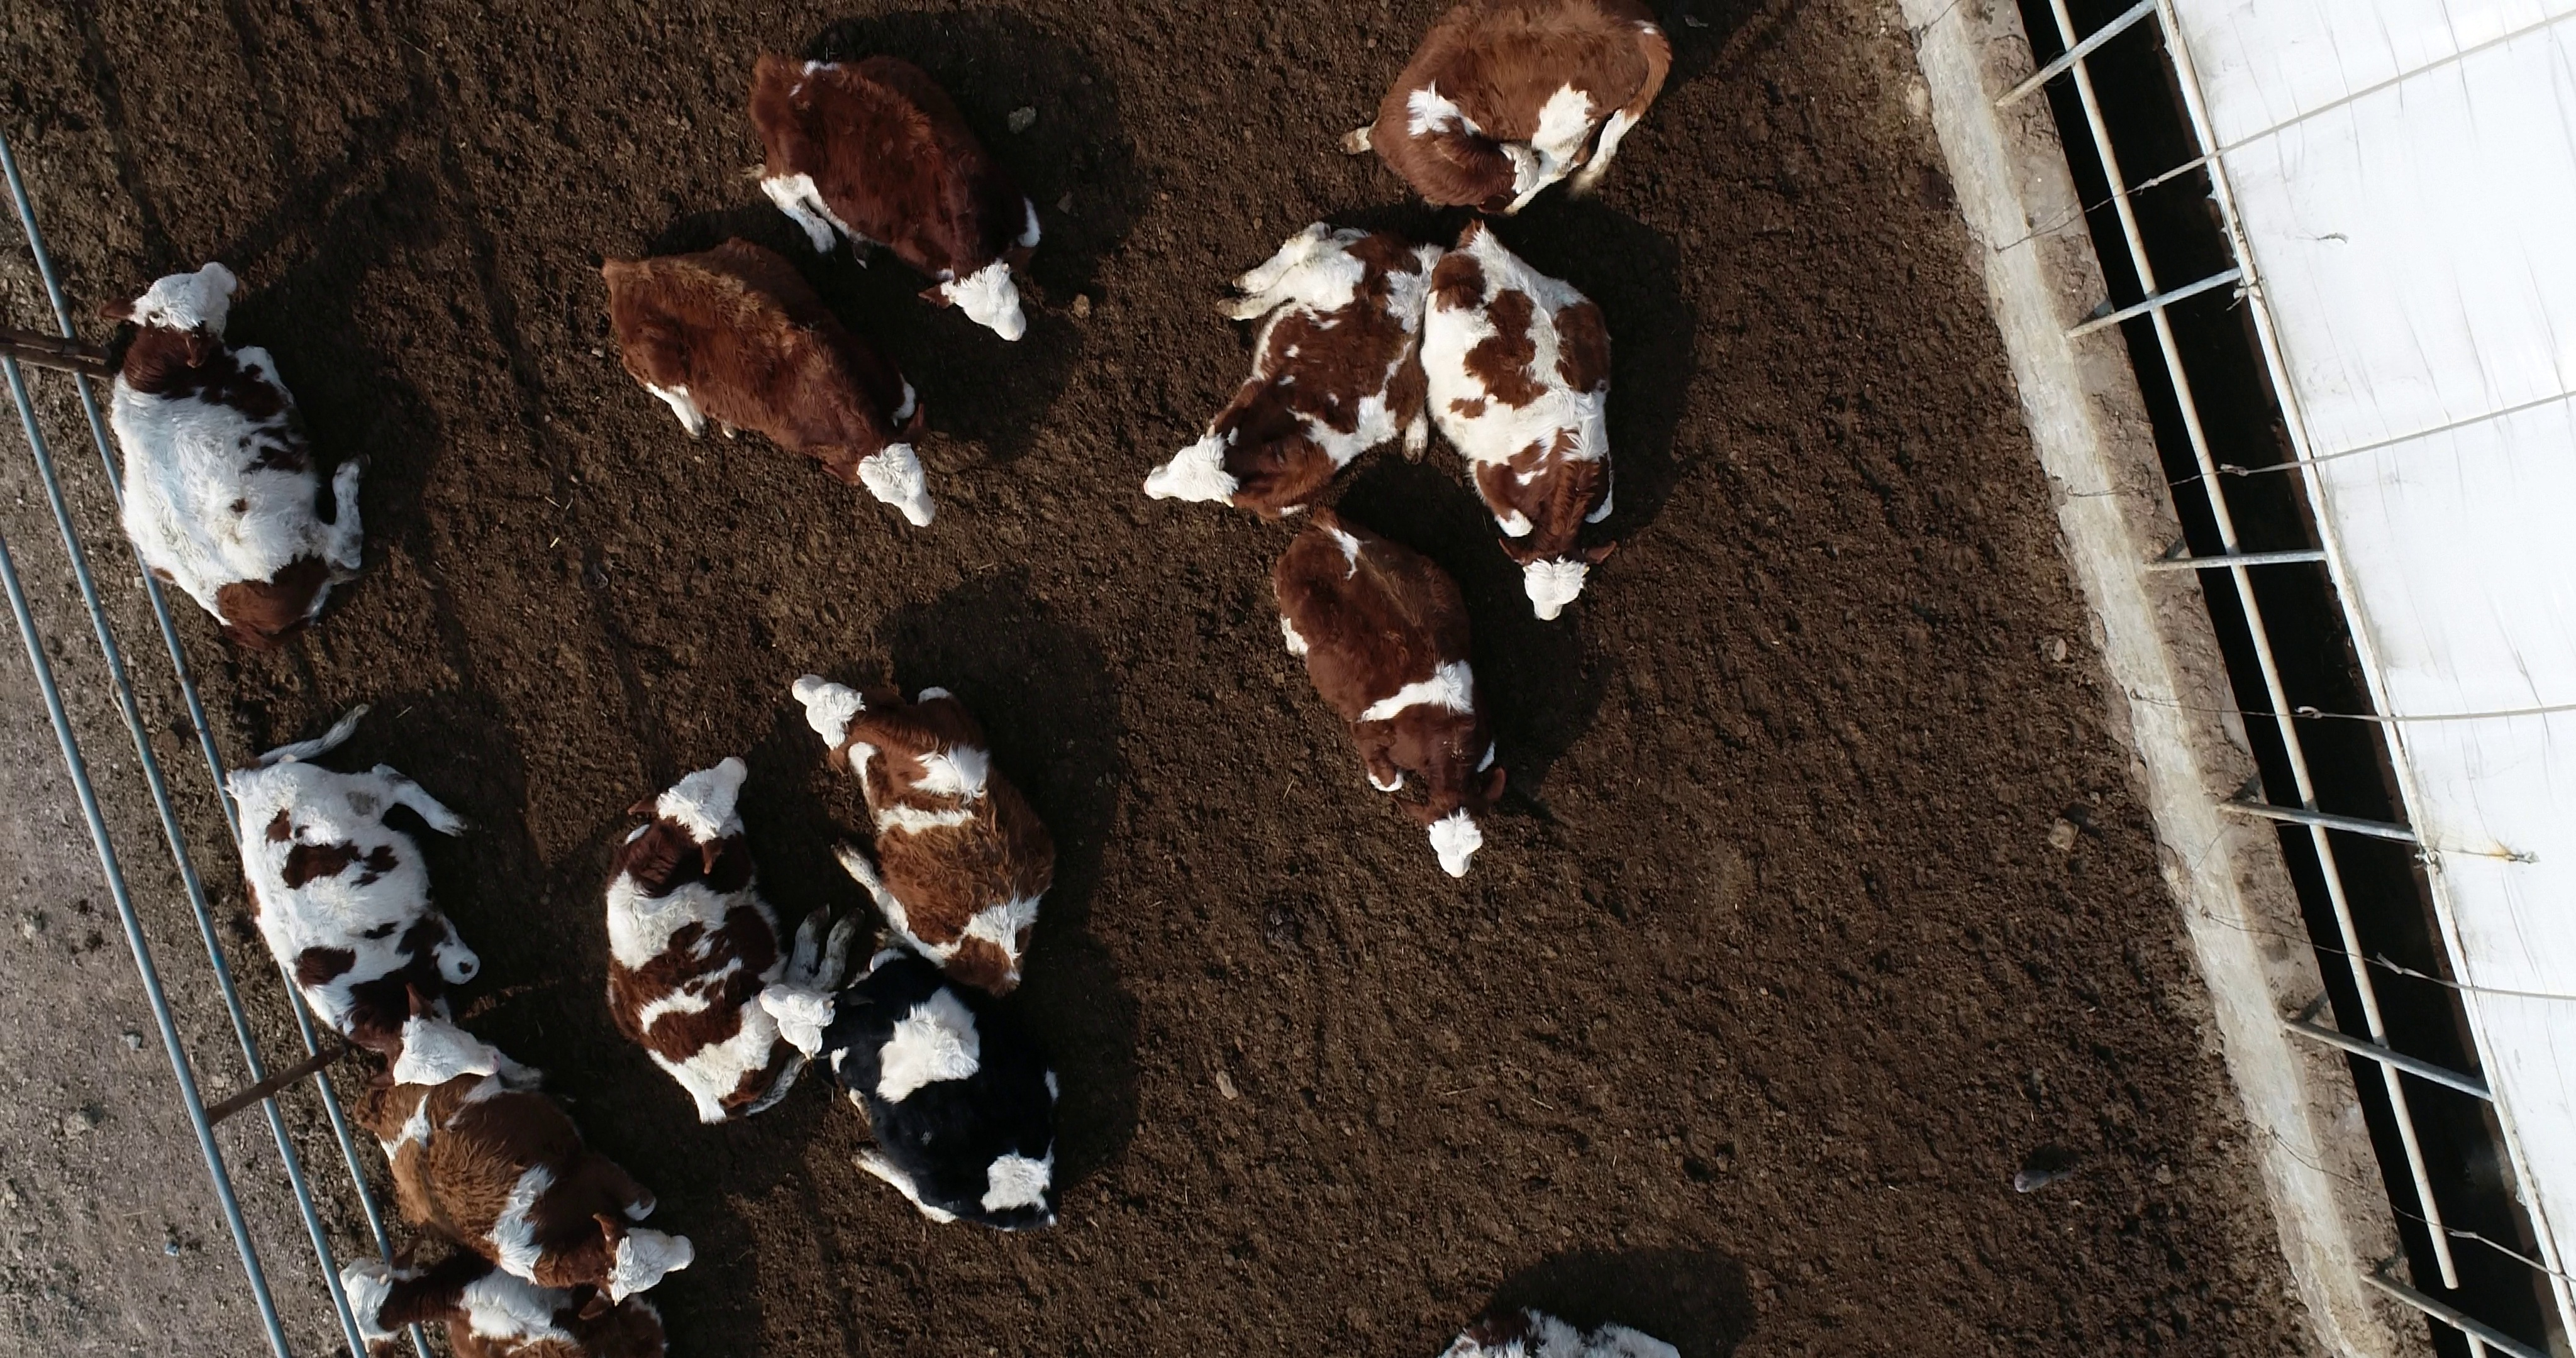cattle: (211, 704, 516, 1090), (99, 256, 368, 659), (591, 233, 947, 533), (593, 746, 860, 1135), (785, 653, 1072, 1007), (1262, 501, 1521, 888), (739, 37, 1053, 351), (758, 949, 1080, 1249), (1135, 211, 1435, 530), (1421, 218, 1625, 627)
